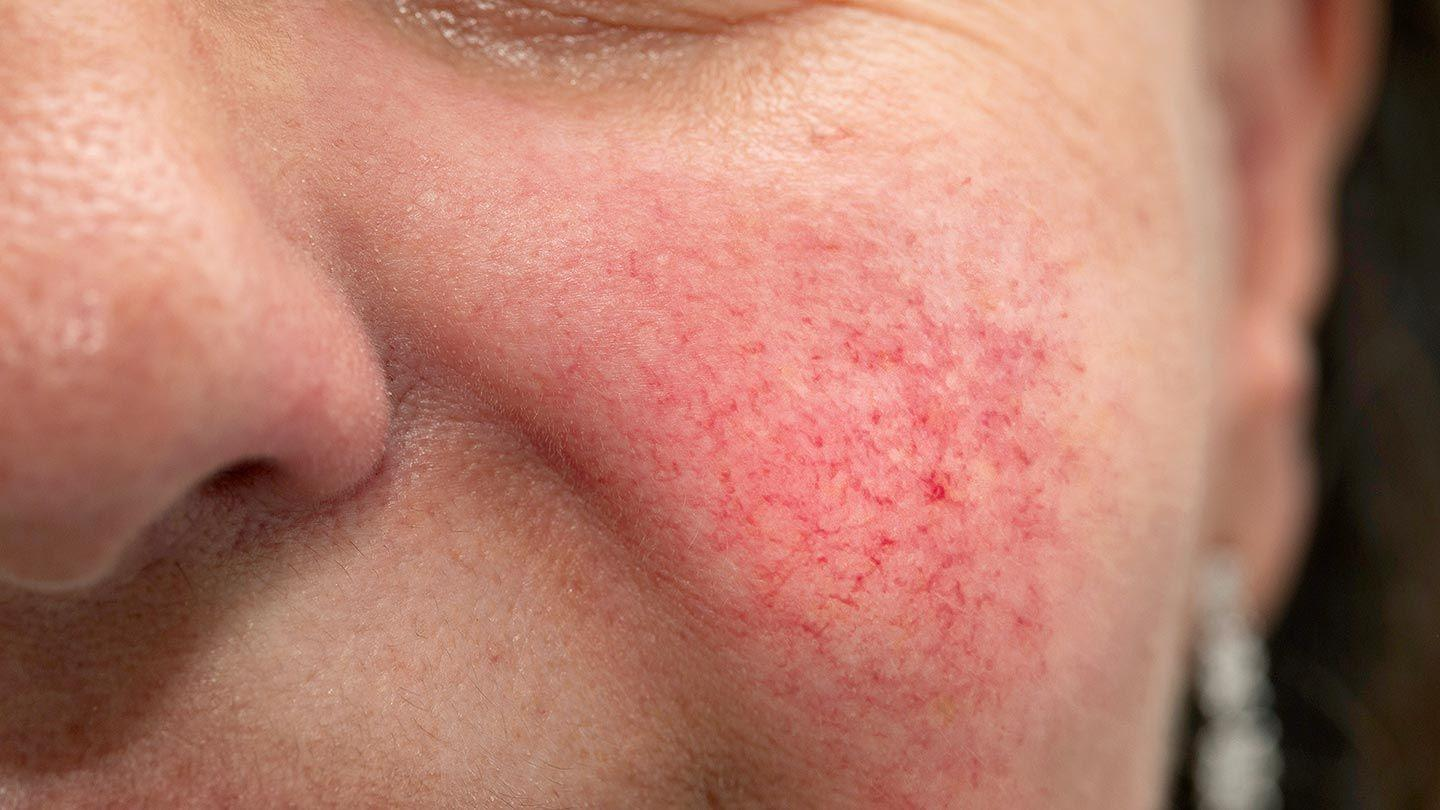Englarged-Pores: (16, 91, 194, 314)
